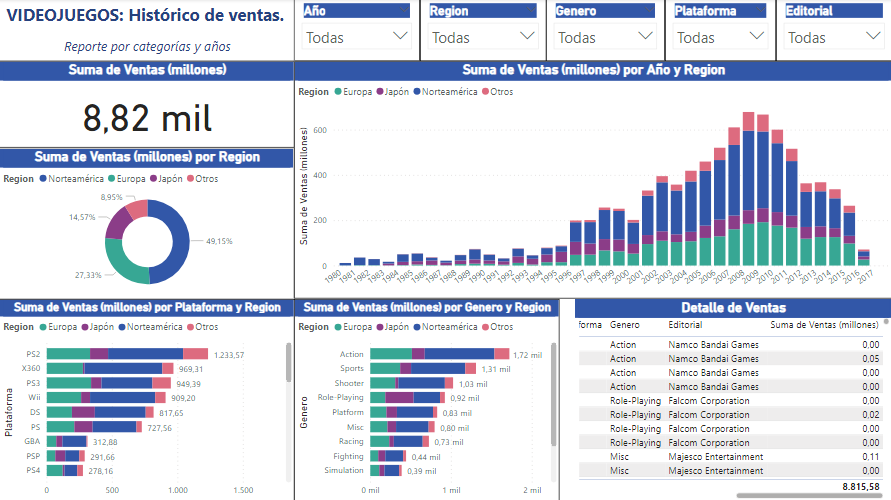

What the dashboard file says about the page in this screenshot:
{"tool":"powerbi","page":{"name":"Página 1","canvas":[1280,720],"ordinal":0},"visuals":[{"type":"columnChart","fields":{"Category":["Ventas Videojuegos.Año"],"Y":["Sum(Ventas Videojuegos.Ventas (millones))"],"Series":["Ventas Videojuegos.Region"]},"box":[422.8,89,856.7,340.1],"z":0},{"type":"tableEx","title":"Detalle de Ventas","fields":{"Values":["Ventas Videojuegos.Nombre","Ventas Videojuegos.Año","Ventas Videojuegos.Region","Ventas Videojuegos.Plataforma","Ventas Videojuegos.Genero","Ventas Videojuegos.Editorial","Sum(Ventas Videojuegos.Ventas (millones))"]},"box":[802.7,429.1,477.3,291.9],"z":1000},{"type":"donutChart","fields":{"Category":["Ventas Videojuegos.Region"],"Y":["Sum(Ventas Videojuegos.Ventas (millones))"]},"box":[0,213,422.8,216.2],"z":2000},{"type":"barChart","fields":{"Category":["Ventas Videojuegos.Plataforma"],"Y":["Sum(Ventas Videojuegos.Ventas (millones))"],"Series":["Ventas Videojuegos.Region"]},"box":[0,429.1,422.8,290.9],"z":3000},{"type":"barChart","fields":{"Category":["Ventas Videojuegos.Genero"],"Y":["Sum(Ventas Videojuegos.Ventas (millones))"],"Series":["Ventas Videojuegos.Region"]},"box":[422.8,429.1,379.9,290.9],"z":4000},{"type":"card","title":"Suma de Ventas (millones)","fields":{"Values":["Sum(Ventas Videojuegos.Ventas (millones))"]},"box":[0,89,422.8,124],"z":5000},{"type":"slicer","fields":{"Values":["Ventas Videojuegos.Año"]},"box":[422.8,0,179.6,89],"z":6000},{"type":"slicer","fields":{"Values":["Ventas Videojuegos.Region"]},"box":[602.4,0,181.2,89],"z":7000},{"type":"slicer","fields":{"Values":["Ventas Videojuegos.Genero"]},"box":[783.6,0,170.1,89],"z":8000},{"type":"slicer","fields":{"Values":["Ventas Videojuegos.Plataforma"]},"box":[953.6,0,158.9,89],"z":9000},{"type":"slicer","fields":{"Values":["Ventas Videojuegos.Editorial"]},"box":[1112.6,0,166.9,89],"z":10000},{"type":"textbox","box":[0,0,422.8,89],"z":11000}]}

Visuals, with their boxes in screenshot pixels (x1, y1, x2, y2), scaled from the page's 1280x720 canvas onto the 891x500 screenshot:
columnChart - Ventas Videojuegos.Año x Sum(Ventas Videojuegos.Ventas (millones)): select_region(294, 62, 890, 298)
"Detalle de Ventas" tableEx: select_region(559, 298, 890, 499)
donutChart - Ventas Videojuegos.Region x Sum(Ventas Videojuegos.Ventas (millones)): select_region(0, 148, 294, 298)
barChart - Ventas Videojuegos.Plataforma x Sum(Ventas Videojuegos.Ventas (millones)): select_region(0, 298, 294, 499)
barChart - Ventas Videojuegos.Genero x Sum(Ventas Videojuegos.Ventas (millones)): select_region(294, 298, 559, 499)
"Suma de Ventas (millones)" card: select_region(0, 62, 294, 148)
slicer - Ventas Videojuegos.Año: select_region(294, 0, 419, 62)
slicer - Ventas Videojuegos.Region: select_region(419, 0, 545, 62)
slicer - Ventas Videojuegos.Genero: select_region(545, 0, 664, 62)
slicer - Ventas Videojuegos.Plataforma: select_region(664, 0, 774, 62)
slicer - Ventas Videojuegos.Editorial: select_region(774, 0, 890, 62)
textbox: select_region(0, 0, 294, 62)
